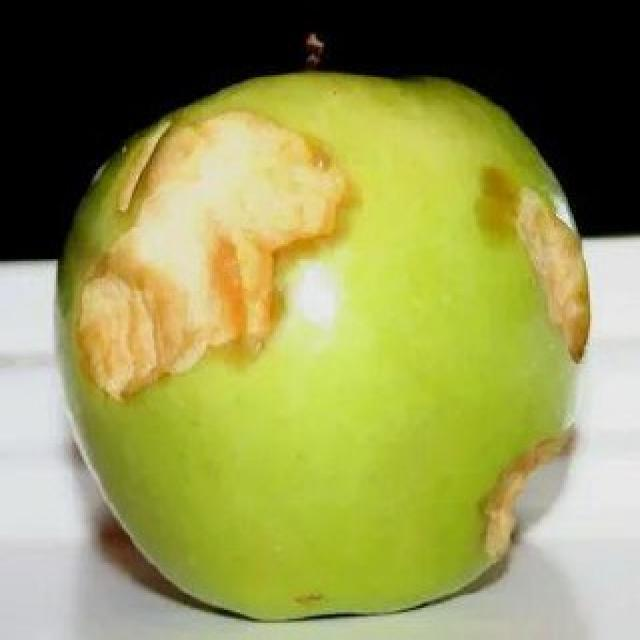Rotten: (69, 63, 604, 622)
